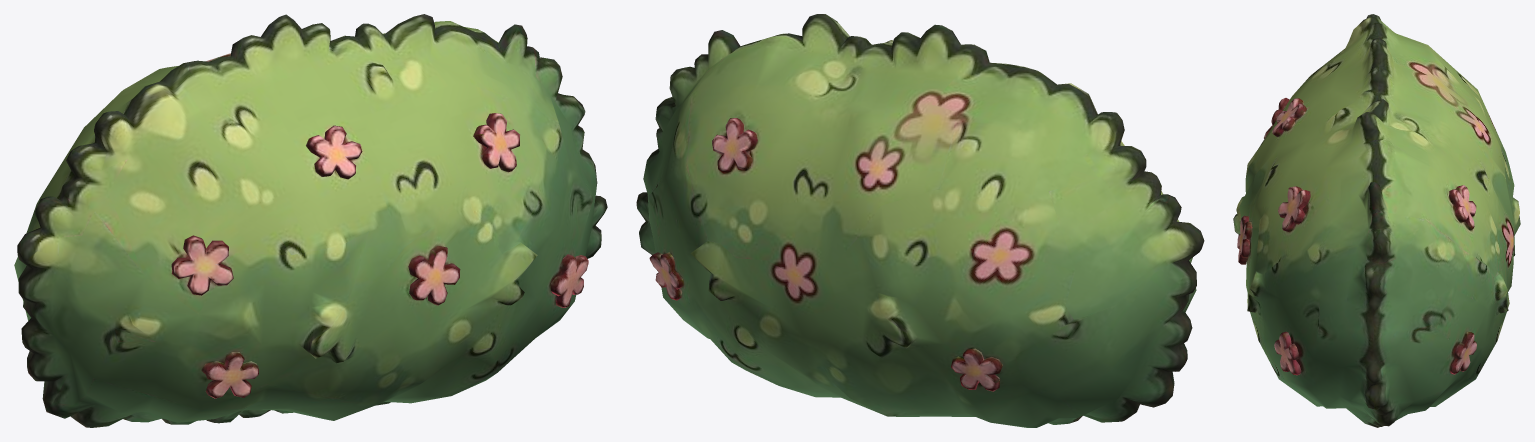
Rendered from item-hedge.glb.
The picture shows the model from 3 angles, left to right: view 1: azimuth 30°, elevation 25°; view 2: azimuth 150°, elevation 25°; view 3: azimuth 270°, elevation 25°; orthographic projection. The views are drawn at different scales.
Bounding box in the file's own units: 0.9575 × 0.6348 × 0.5073.
Materials: 1 (1 with a texture image).
